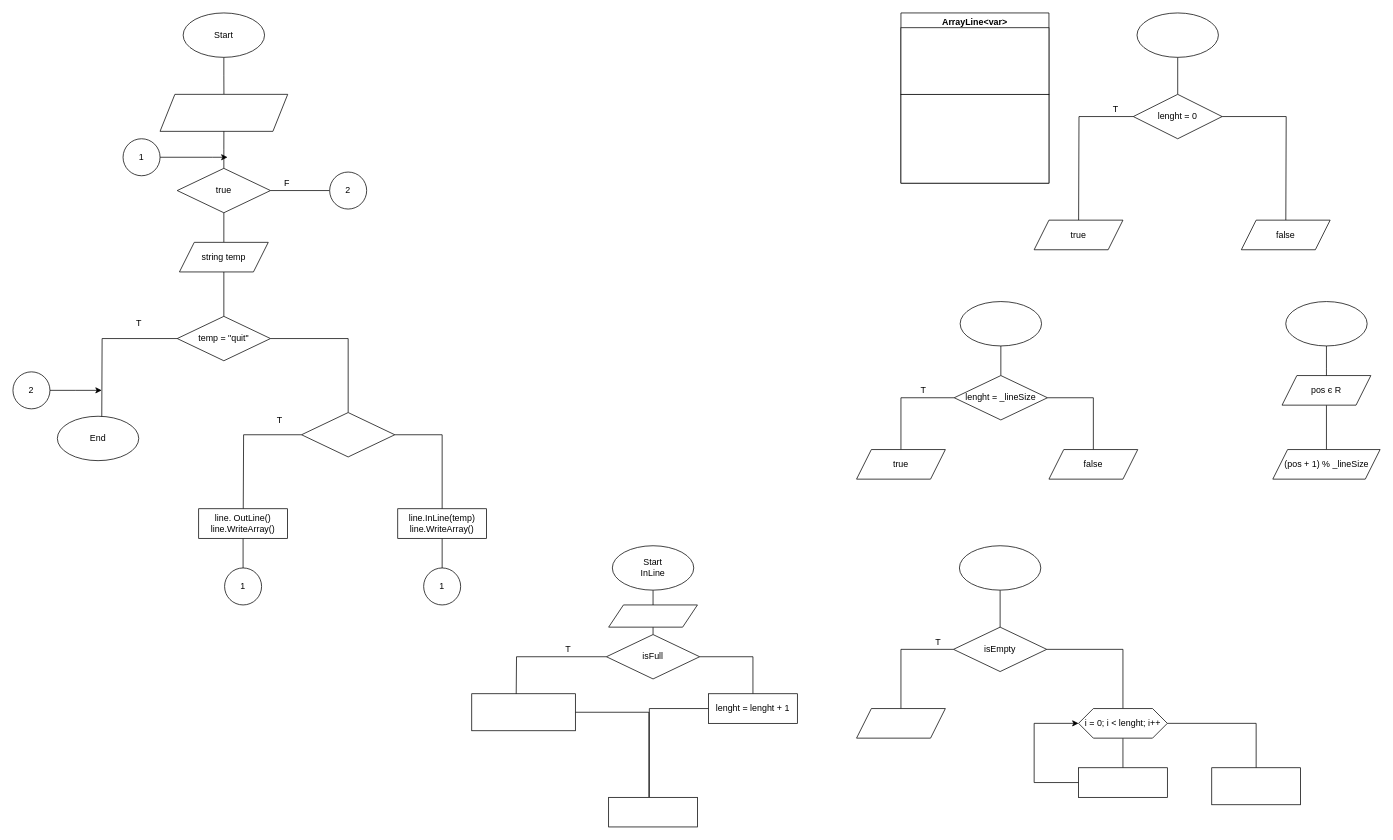
Image size: 1393x840. Some labels were removed from this diagram. Each missing label, with the centre of its shape:
_lineSize = _lineSize * 2 lenght = lenght + 1: the point at 523,712
ArrayLine() isEmpty() isFull() Next() OutLine() InLine() WriteArray(): the point at 974,138
ArrayLine<string> line: the point at 223,112
head = head.Next line[head] = toAdd: the point at 652,812
line[] head tail lenght _lineSize: the point at 974,60
line[head] = null head = head - 1 lenght = lenght - 1: the point at 1256,786
line[i] = line[i+1];: the point at 1122,782
Start isEmpty: the point at 1177,34
Start isFull: the point at 1000,323
Start Nex: the point at 1326,323
Start OutLine: the point at 1000,567
string toAdd: the point at 652,615
temp = "out": the point at 348,434
